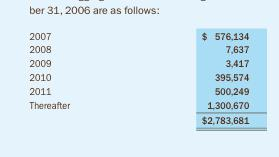table: (28, 29, 248, 125)
table column: (135, 29, 248, 125), (28, 29, 135, 125)
table row: (28, 97, 248, 112), (28, 55, 248, 69), (28, 69, 248, 83), (28, 83, 248, 97), (28, 29, 248, 42), (28, 42, 248, 55), (28, 112, 248, 125)
